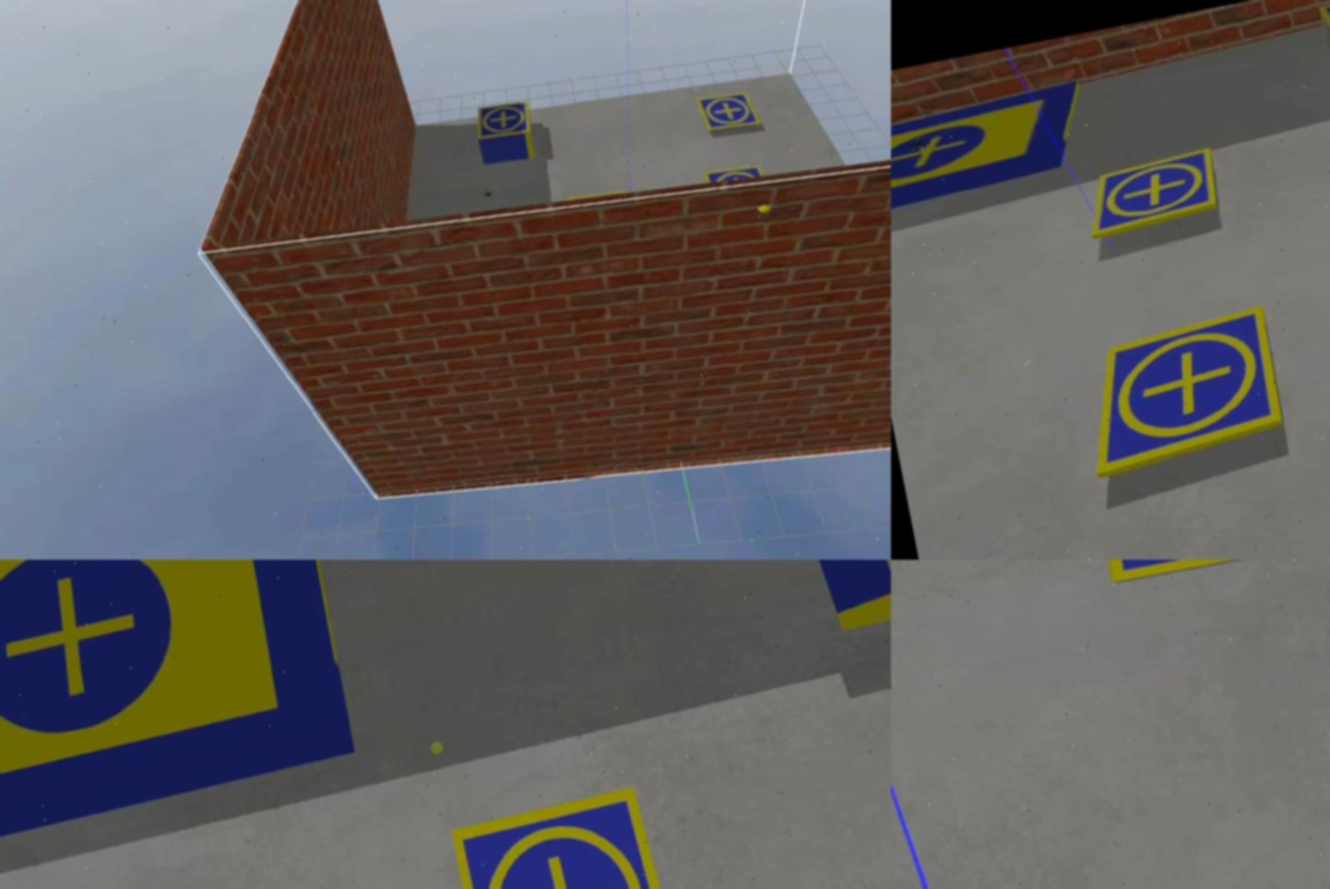large_base: (1, 561, 356, 861), (892, 85, 1093, 215)
small_base: (1073, 310, 1290, 483), (450, 787, 686, 889), (1082, 146, 1223, 238), (695, 86, 765, 139), (472, 96, 537, 145), (704, 161, 766, 190)
